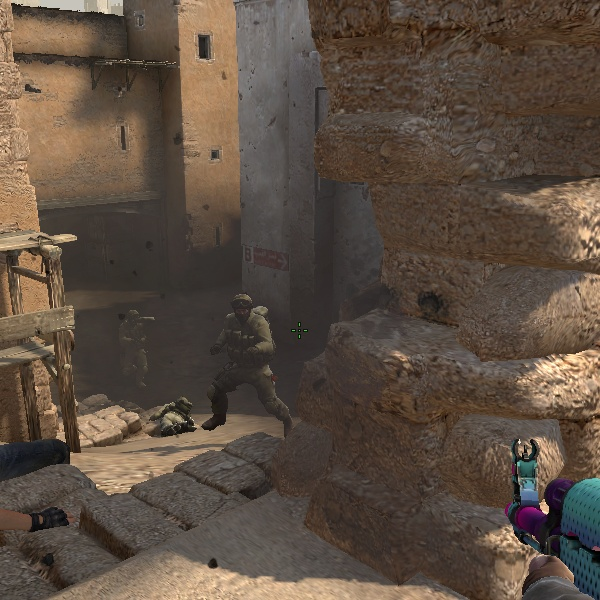ct_body: (198, 291, 283, 436)
ct_head: (226, 292, 258, 324)
